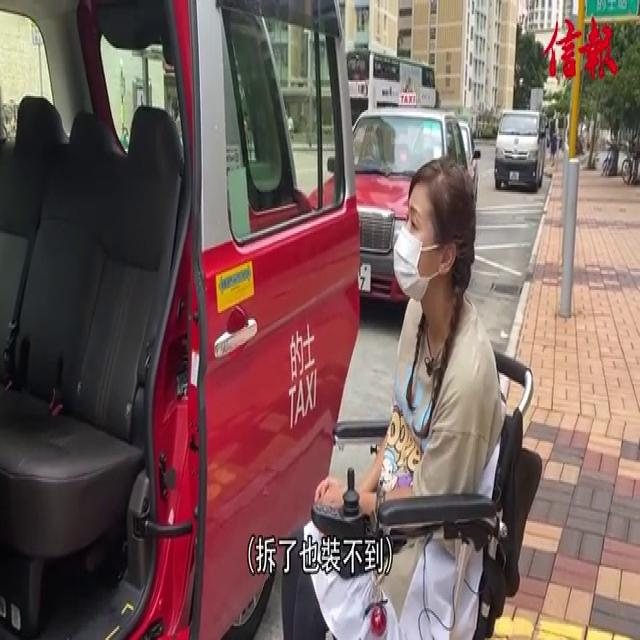wheelchairs: (288, 329, 557, 628)
